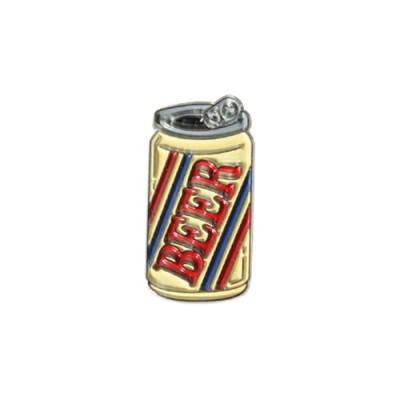beer: (145, 94, 254, 301)
